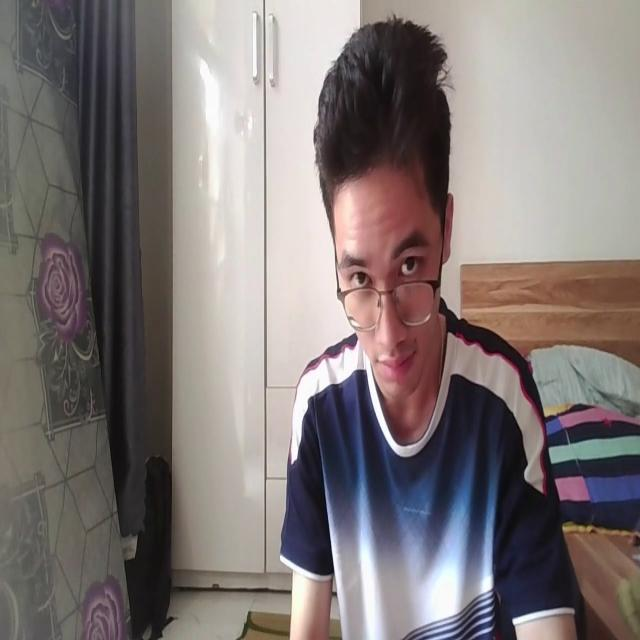student: (280, 9, 578, 640)
